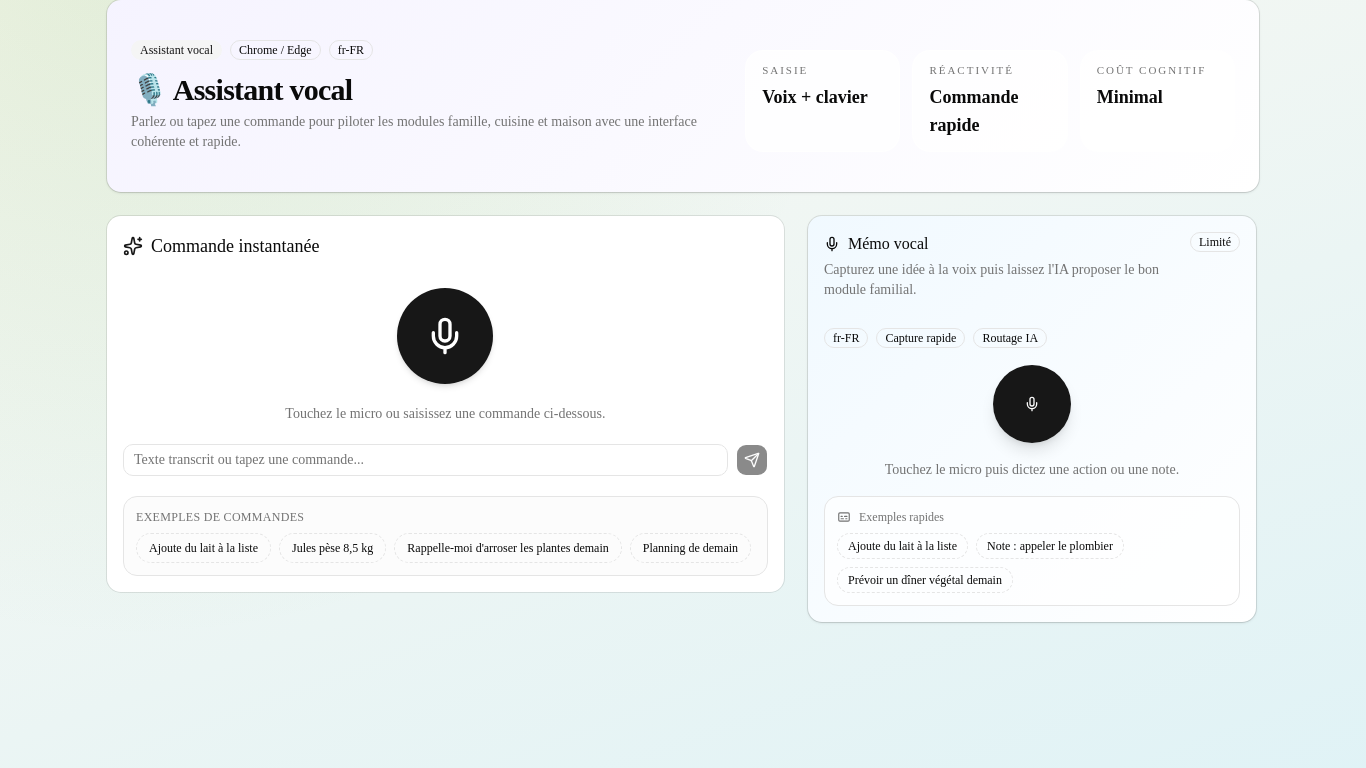
Test: AssistantVocalPage — envoi commande texte › affiche le résultat dans l'historique
The image size is (1366, 768).
Type "Ajoute du lait" into the field. click: [425, 460]
box: [123, 444, 728, 476]
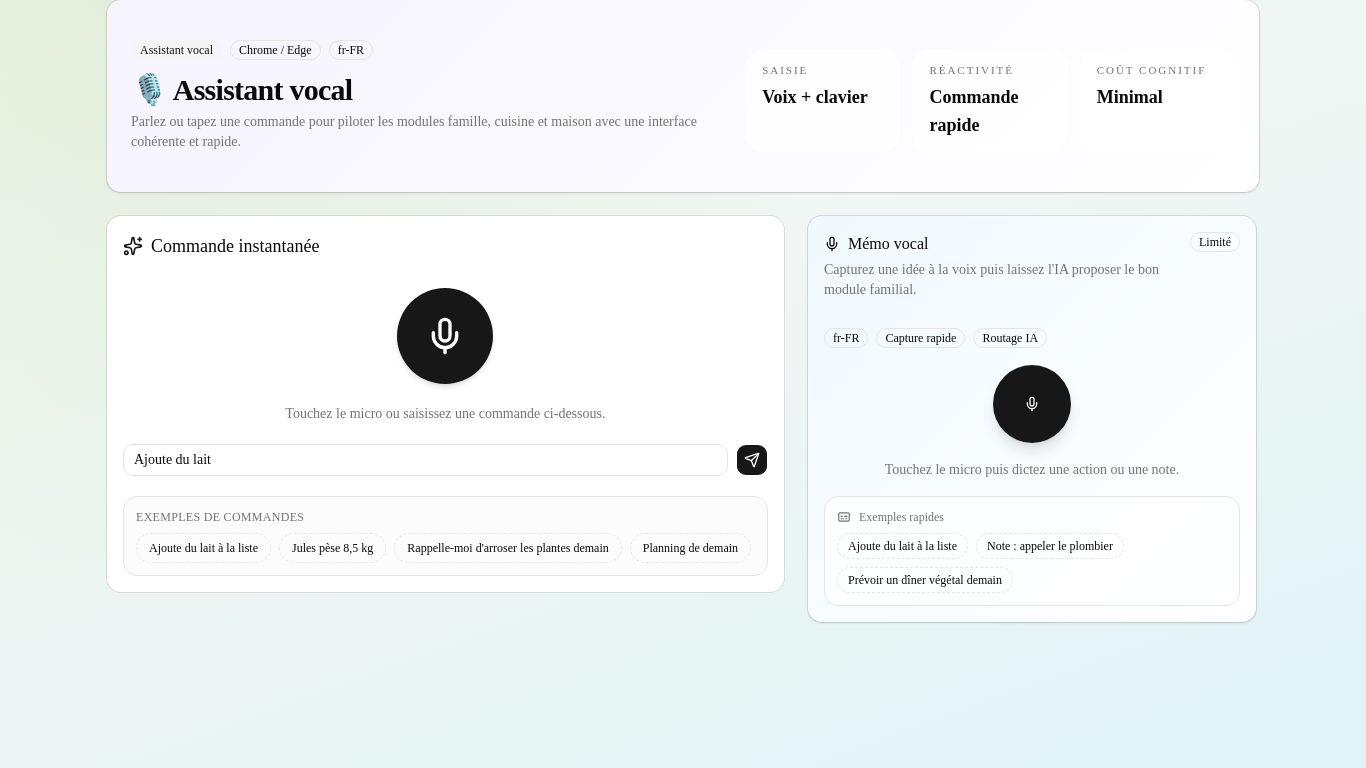
Submit the form, box [123, 444, 768, 476]
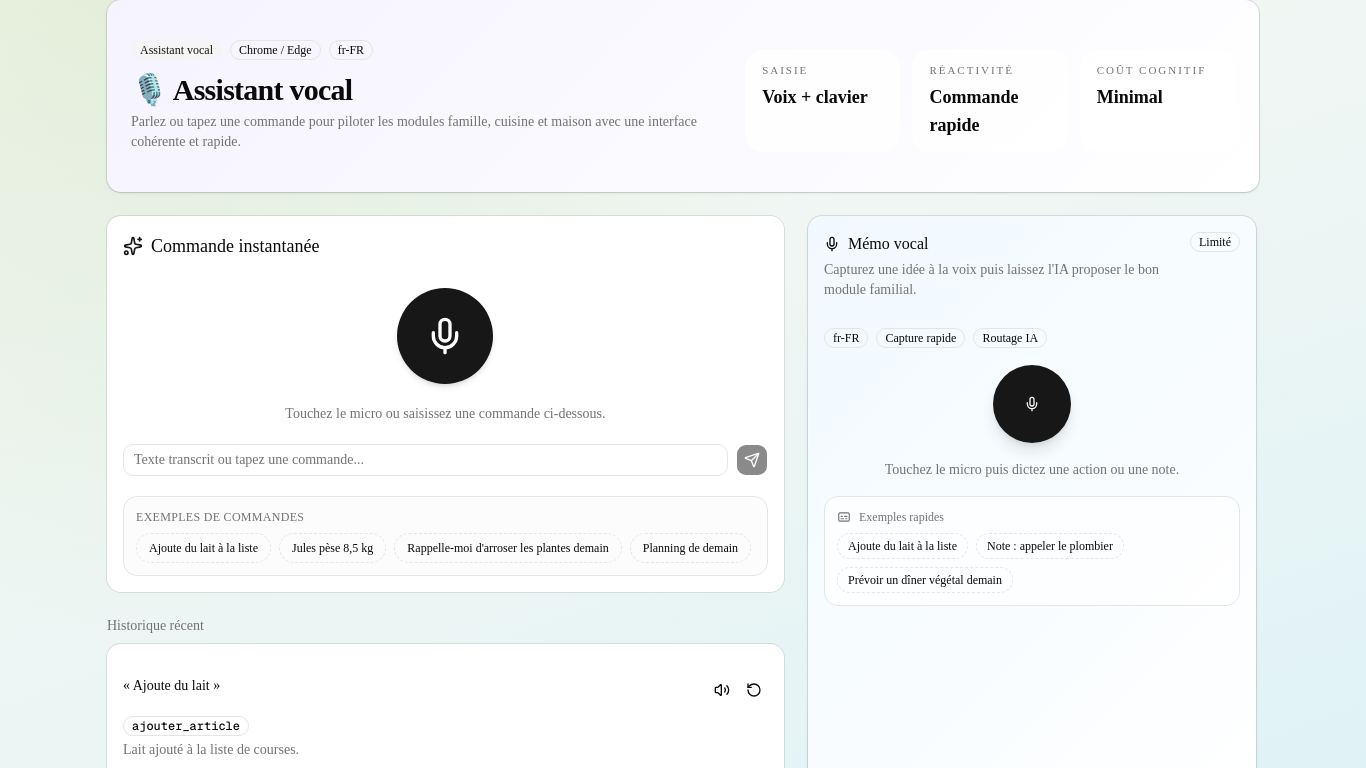
Check: the text "Lait ajouté à la liste de courses." is shown, box [123, 742, 299, 757]
